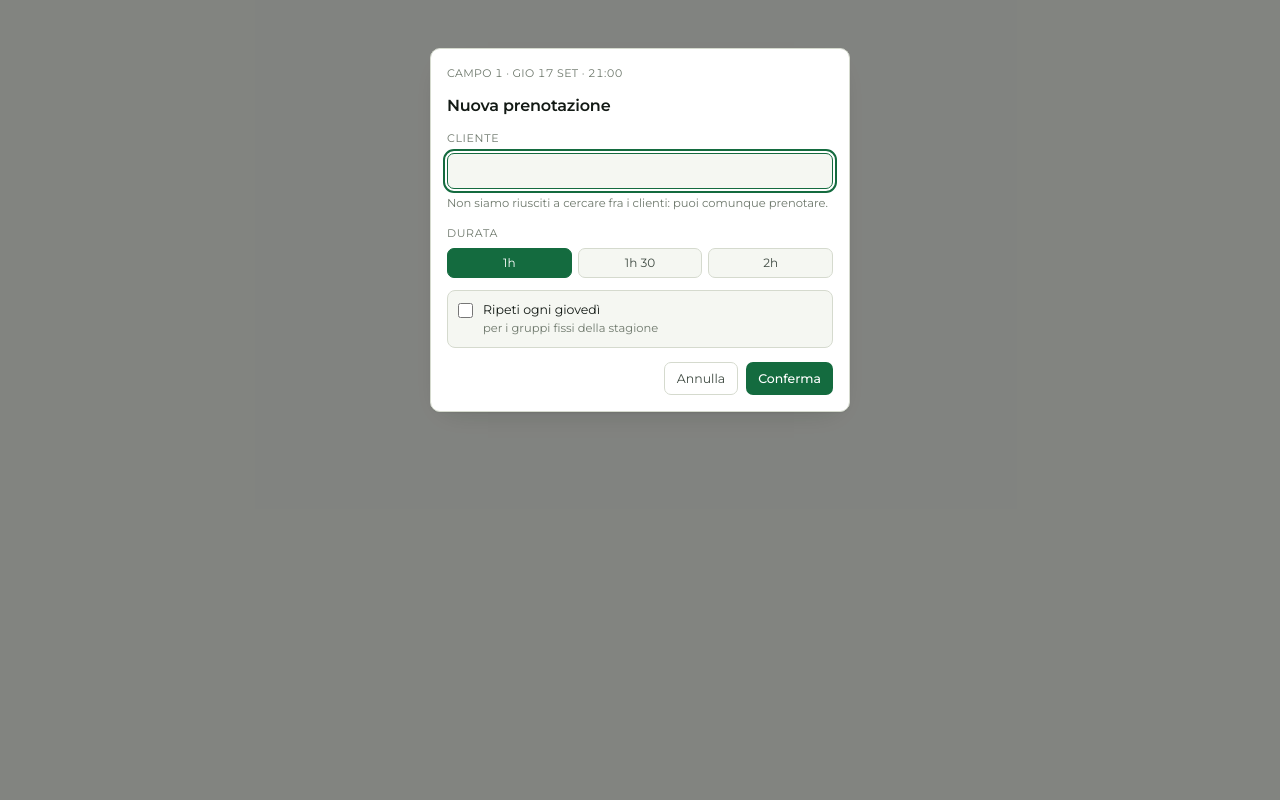
Test: NewBookingDialog — riconoscere chi telefona › se il numero è già di un altro ma la scheda non si trova, dice comunque cosa fare
Type "Mario Neri" into the field labelled "Cliente". click: (640, 171)
box: 447,153 -> 833,189
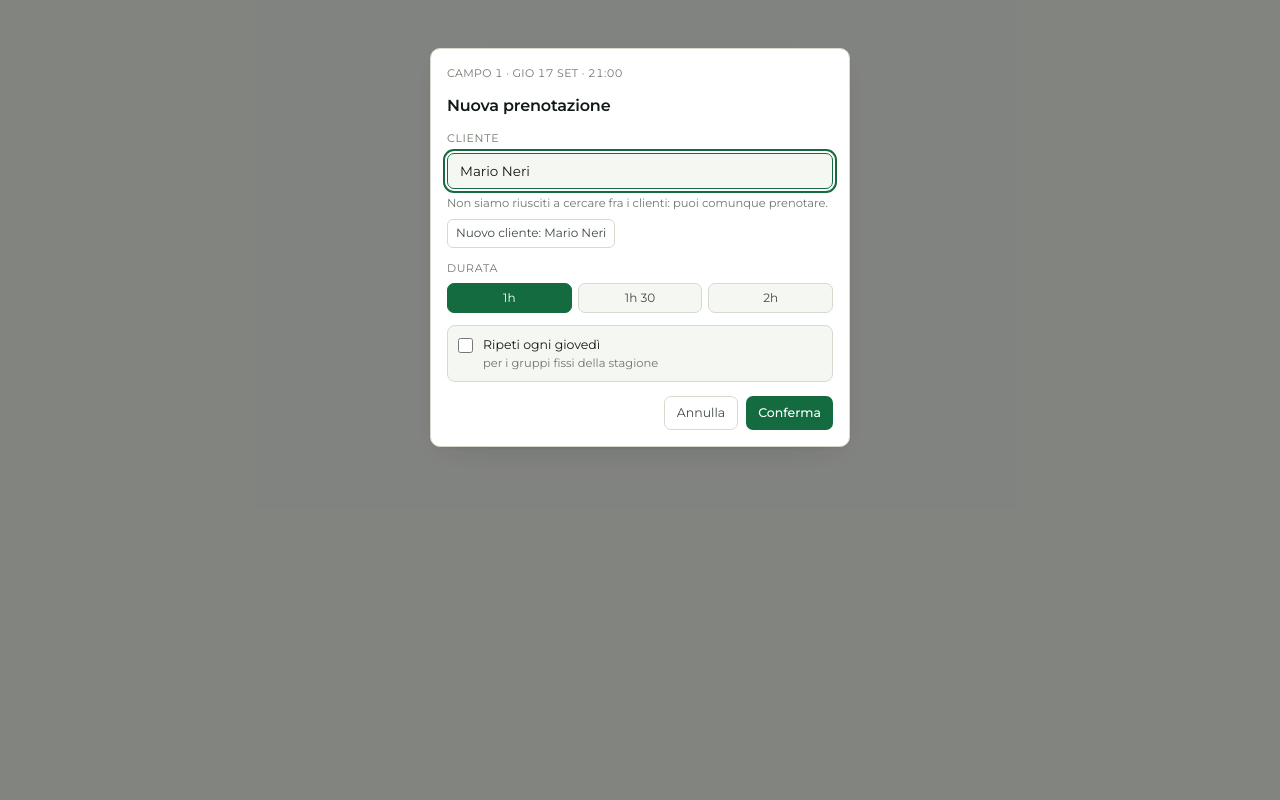
Click the button "Nuovo cliente: Mario Neri". click: (531, 233)
box: 447,219 -> 615,248
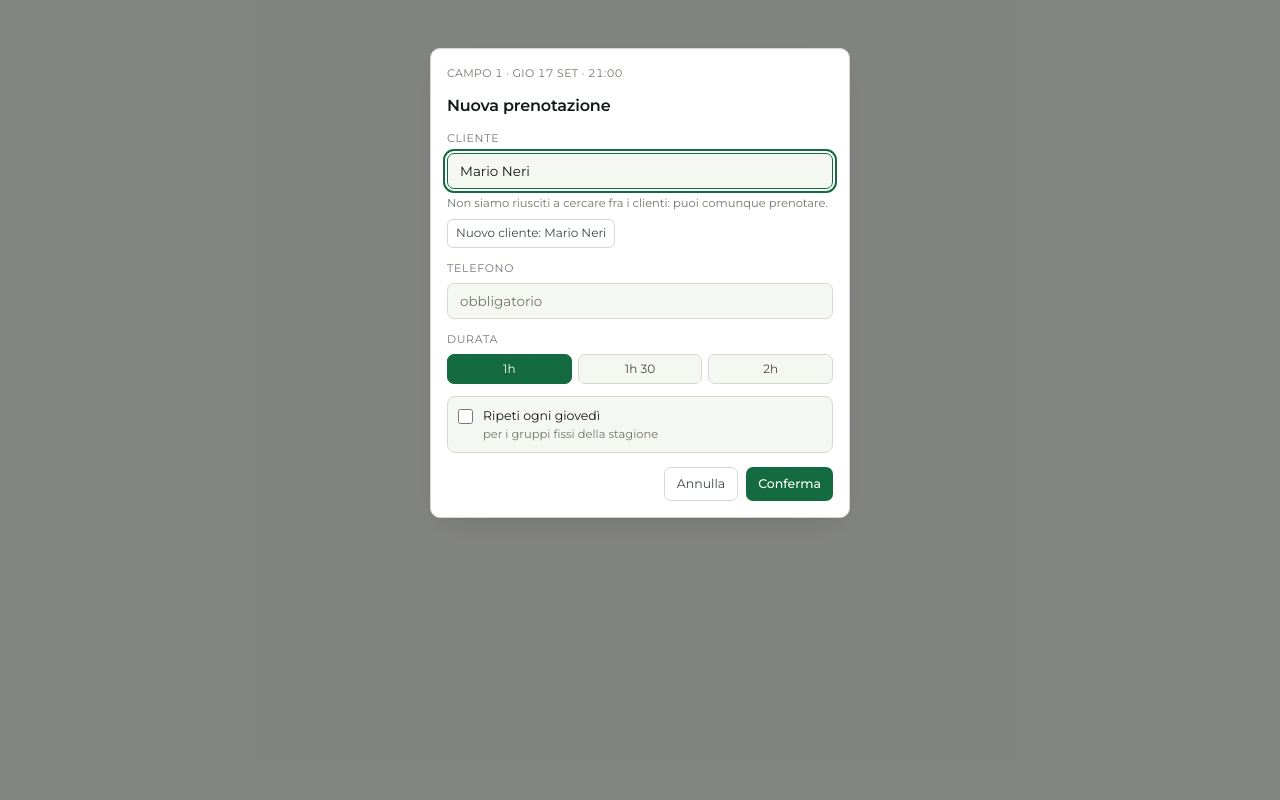
Type "3331112233" into the field labelled "Telefono". click: (640, 300)
box: 447,282 -> 833,318
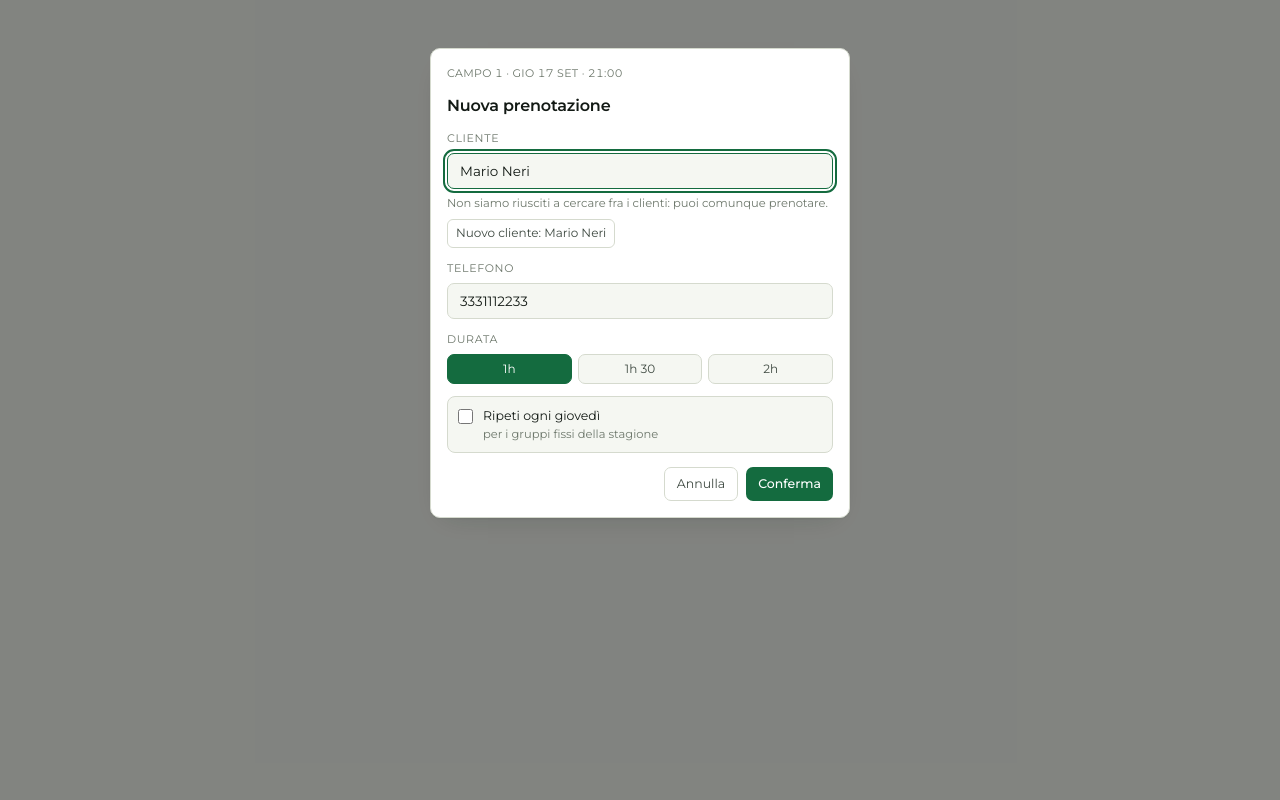
Click the button "Conferma". click: (790, 484)
box: 746,467 -> 833,501
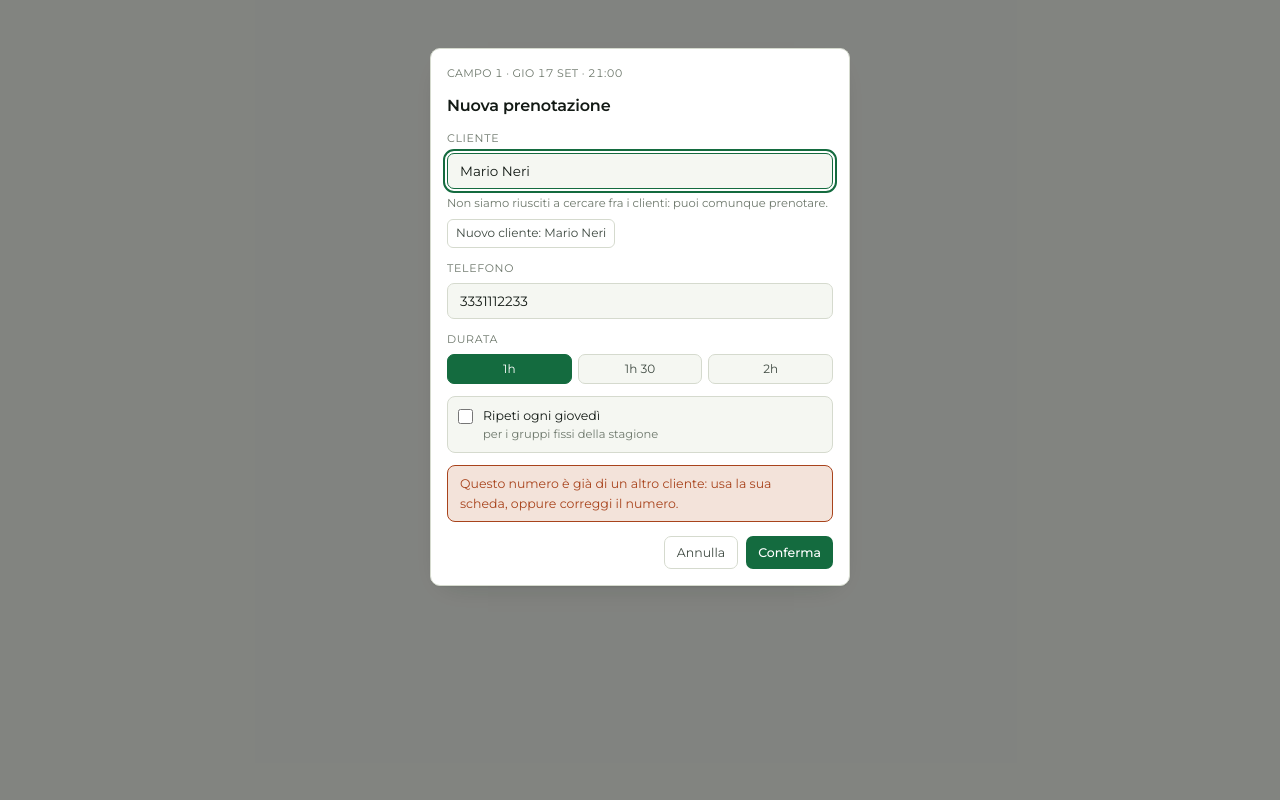
Check: the text "correggi il numero" is shown, box 460,476 -> 771,511
